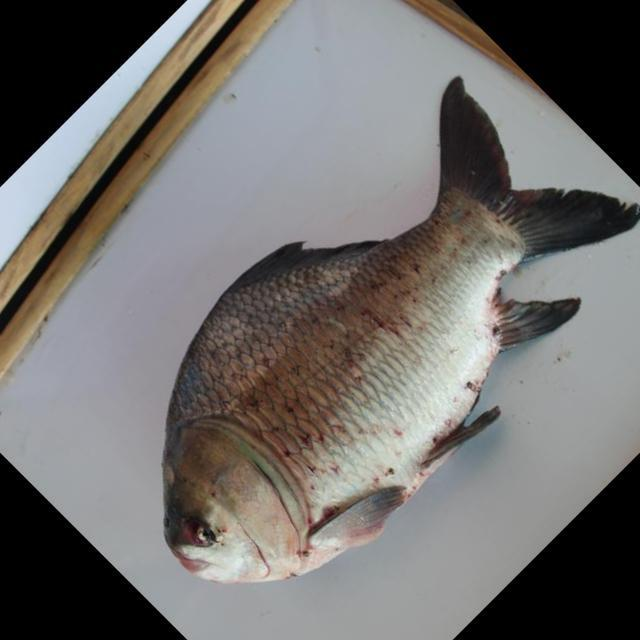Catla: (161, 74, 640, 584)
